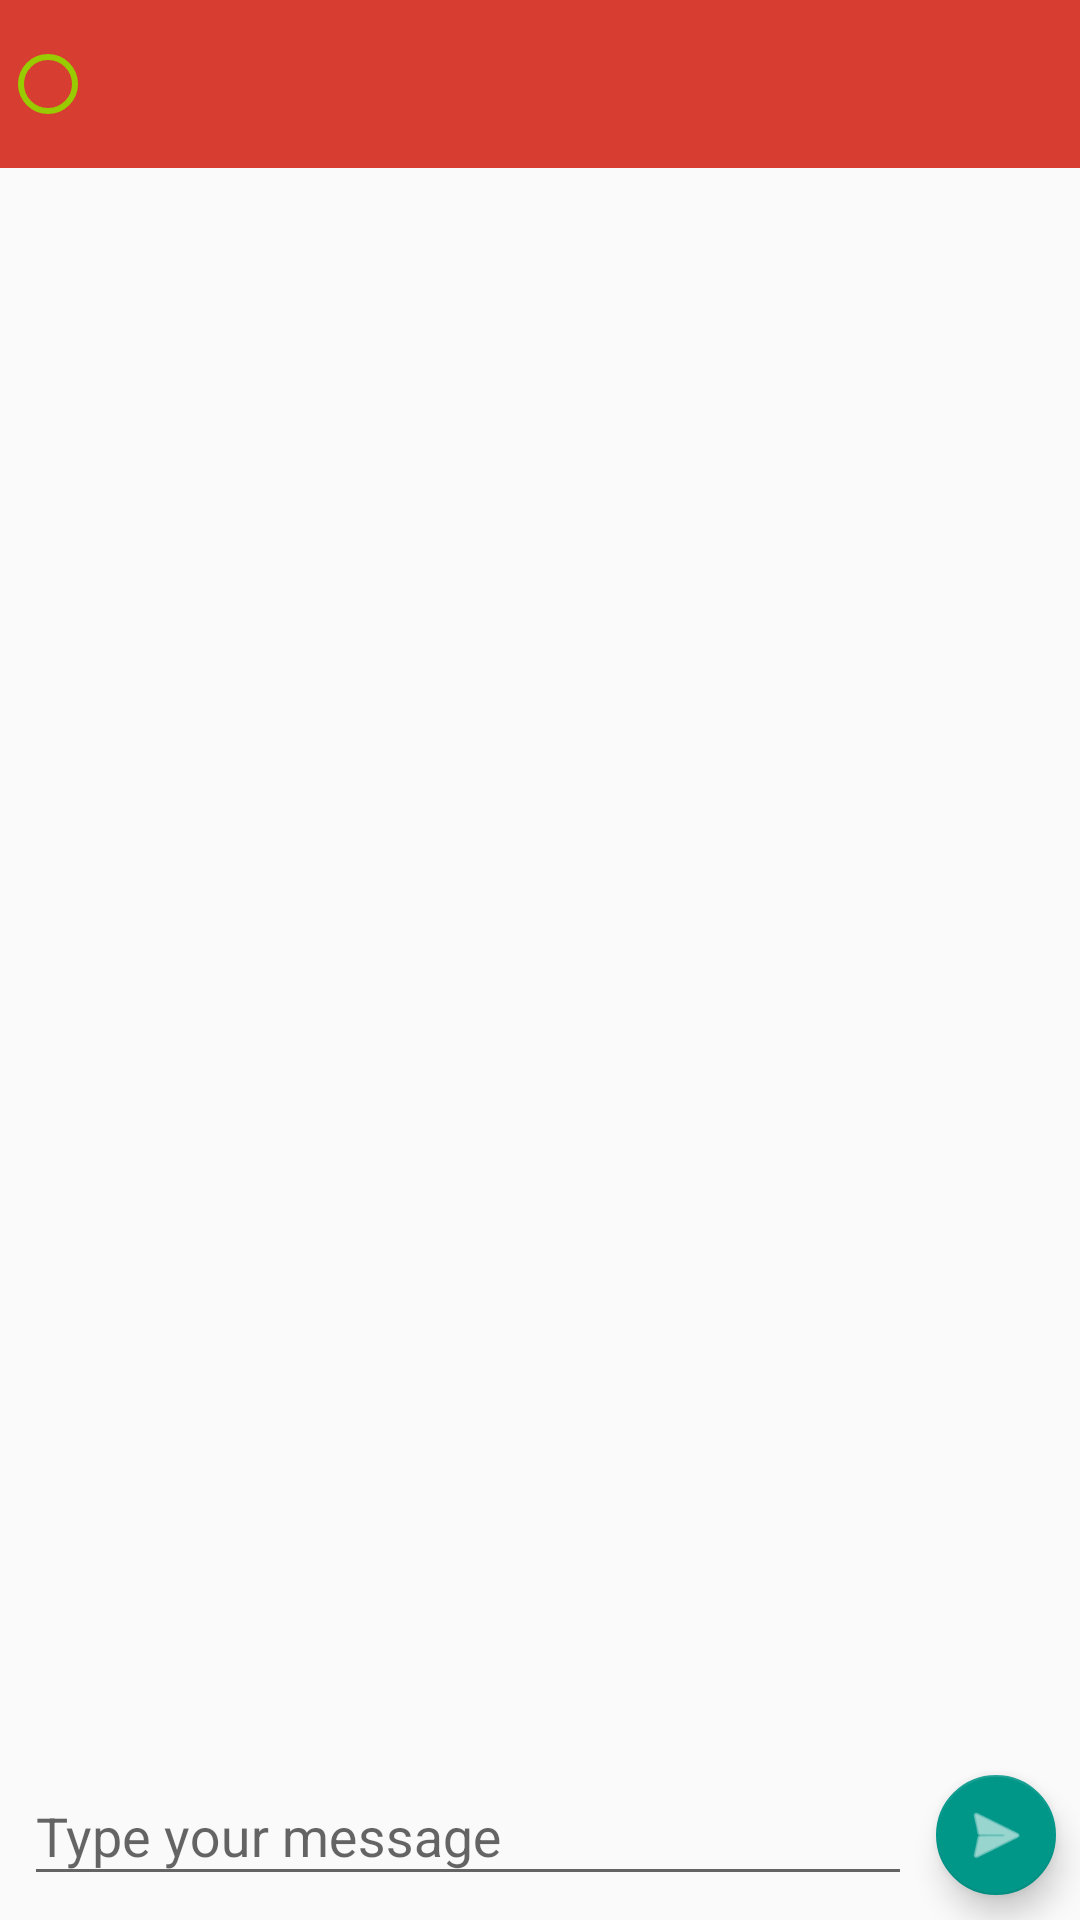

Named icons in this screenshot (1080 x 1920) and their bounding boxes, (x1, y1, x2, y2):
send: (936, 1775, 1056, 1895)
